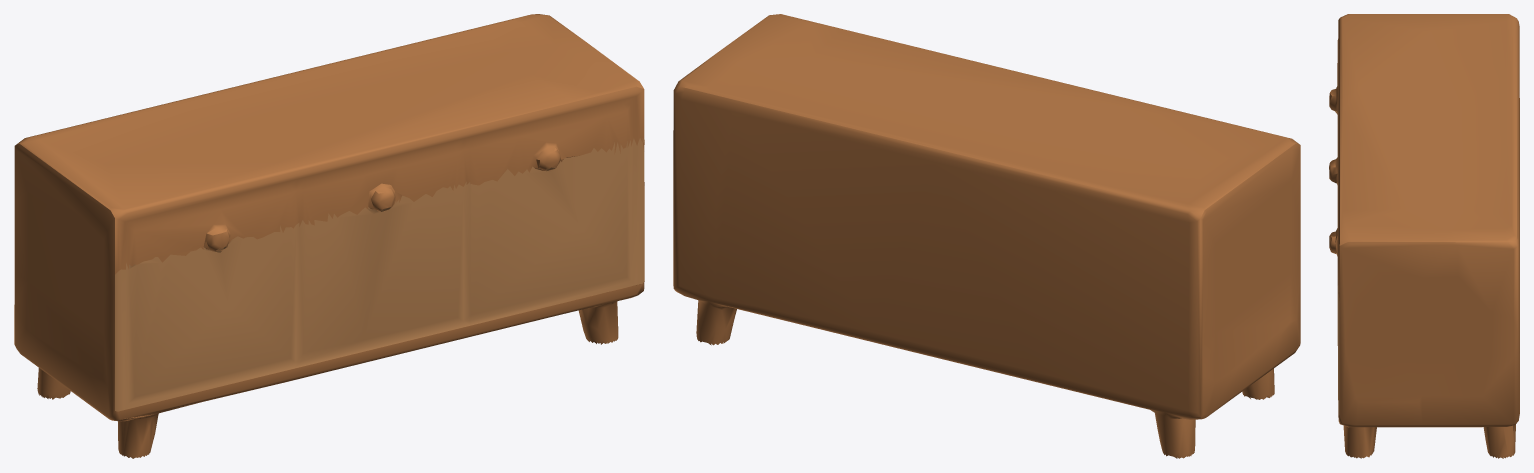
Rendered from sideboard.glb.
3 views of the same model, side by side, from view 1: azimuth 30°, elevation 25°; view 2: azimuth 150°, elevation 25°; view 3: azimuth 270°, elevation 25° (orthographic). The views are drawn at different scales.
Visible parts, largest first — view 1: sideboard_wood, sideboard_door; view 2: sideboard_wood; view 3: sideboard_wood, sideboard_door.
Boxes of the visible parts, x1,y1,x2,y2 form: sideboard_wood: [14, 14, 644, 458]; sideboard_door: [115, 138, 644, 411]; sideboard_wood: [673, 14, 1300, 458]; sideboard_wood: [1329, 14, 1519, 458]; sideboard_door: [1329, 111, 1339, 415].
Bounding box in the file's own units: 1.85 × 0.8503 × 0.6496.
